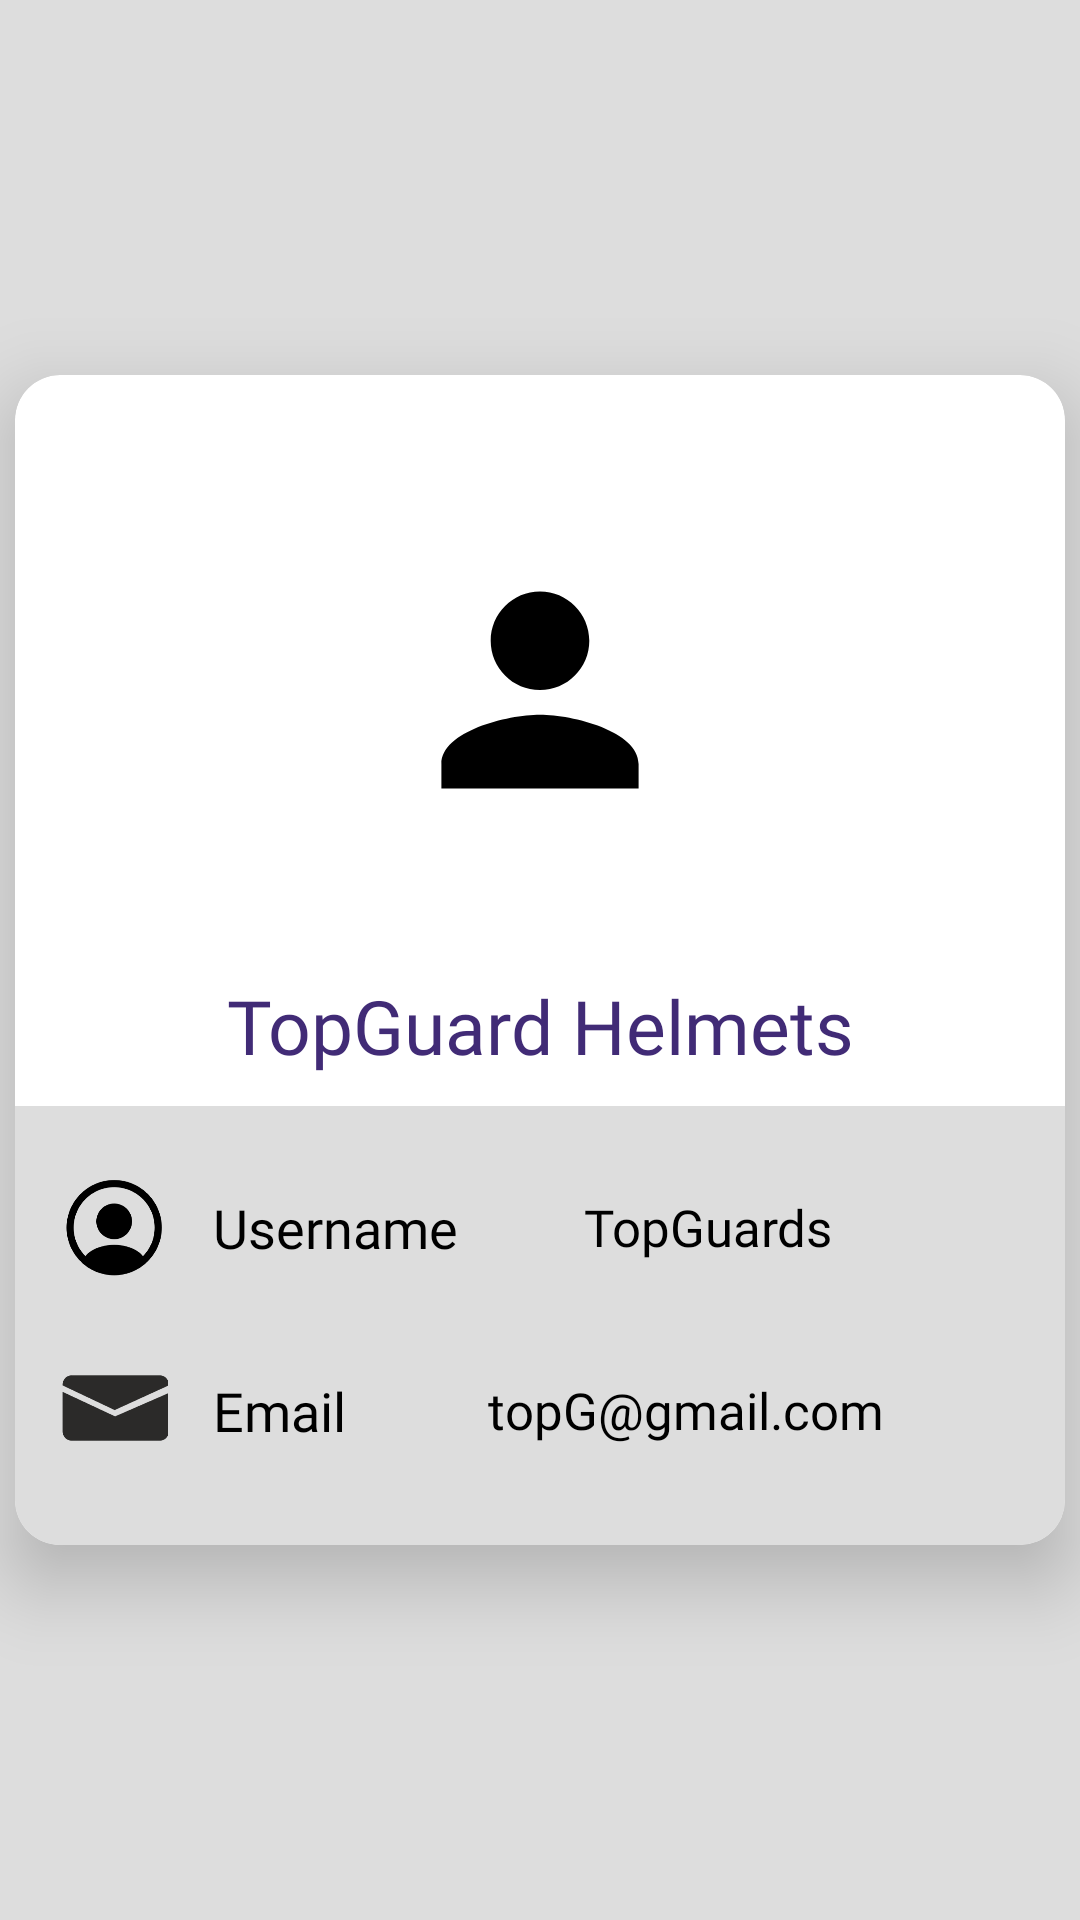

Named icons in this screenshot (1080px×1920px) and their bounding boxes, (x1, y1, x2, y2):
profile: (441, 591, 639, 789)
